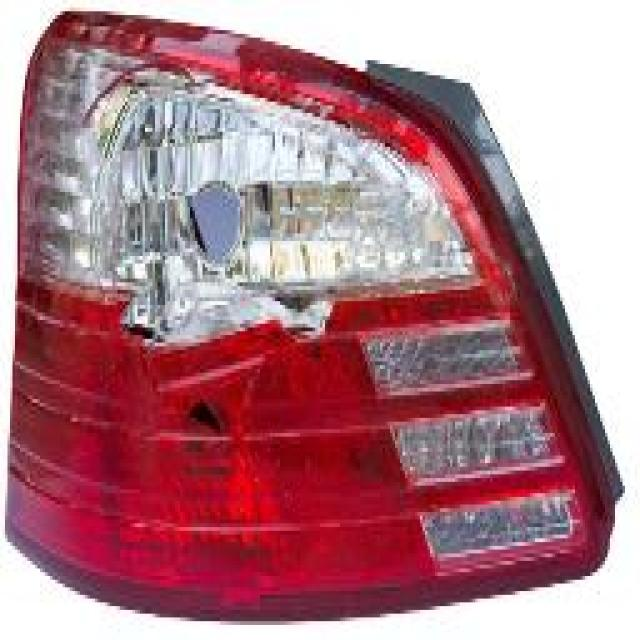Light: (10, 38, 590, 584)
